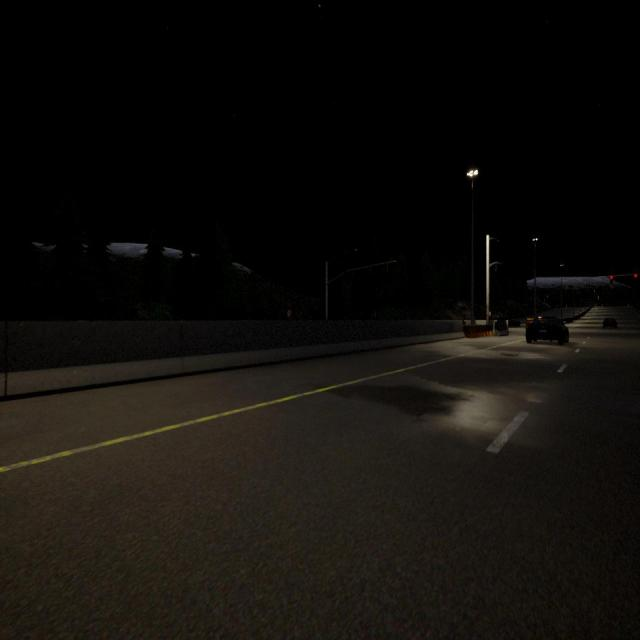Vehicle: (526, 316, 568, 344), (602, 317, 618, 329)
traffic_light: (610, 276, 613, 284), (634, 274, 637, 278)
